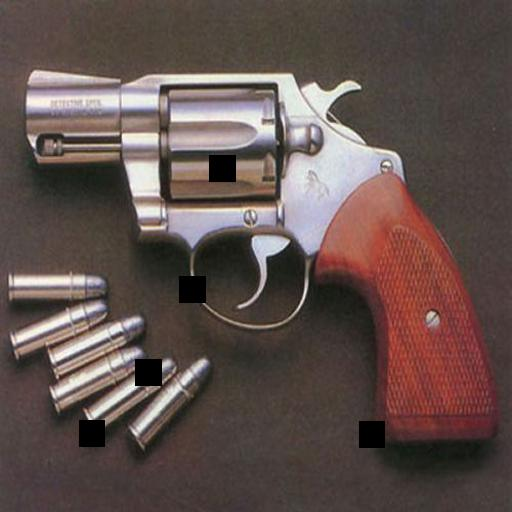Handgun: (21, 65, 498, 449)
